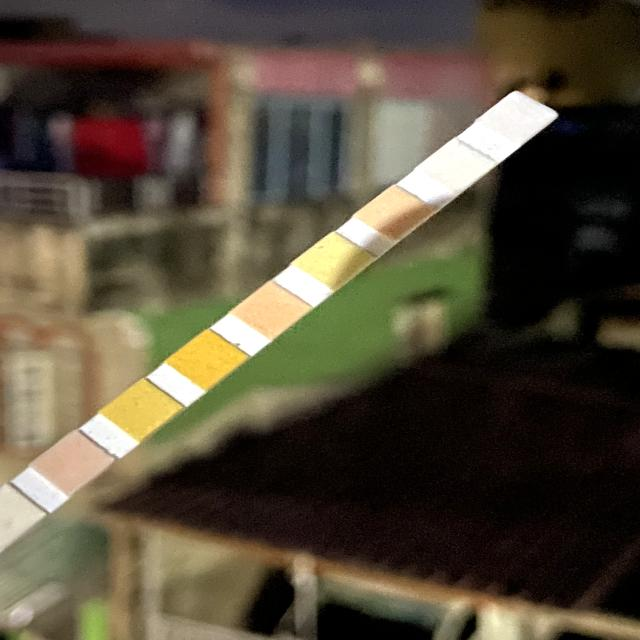Bilirubin: (0, 503, 24, 532)
Blood: (185, 344, 228, 377)
Ketone: (53, 446, 92, 479)
Leukocytes: (493, 107, 536, 133)
Nitrite: (435, 150, 473, 181)
Protein: (311, 246, 356, 277)
SpGravity: (120, 394, 162, 427)
Urobilinogen: (373, 199, 412, 230)
pH: (250, 295, 289, 326)
